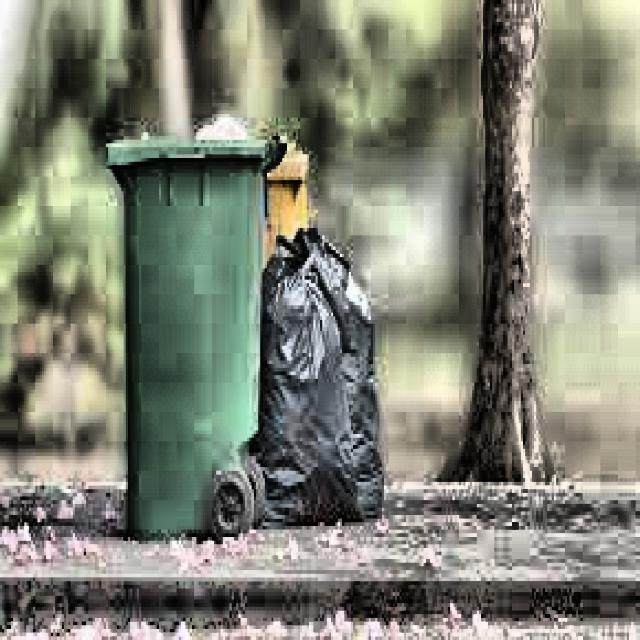garbage: (260, 224, 386, 530)
